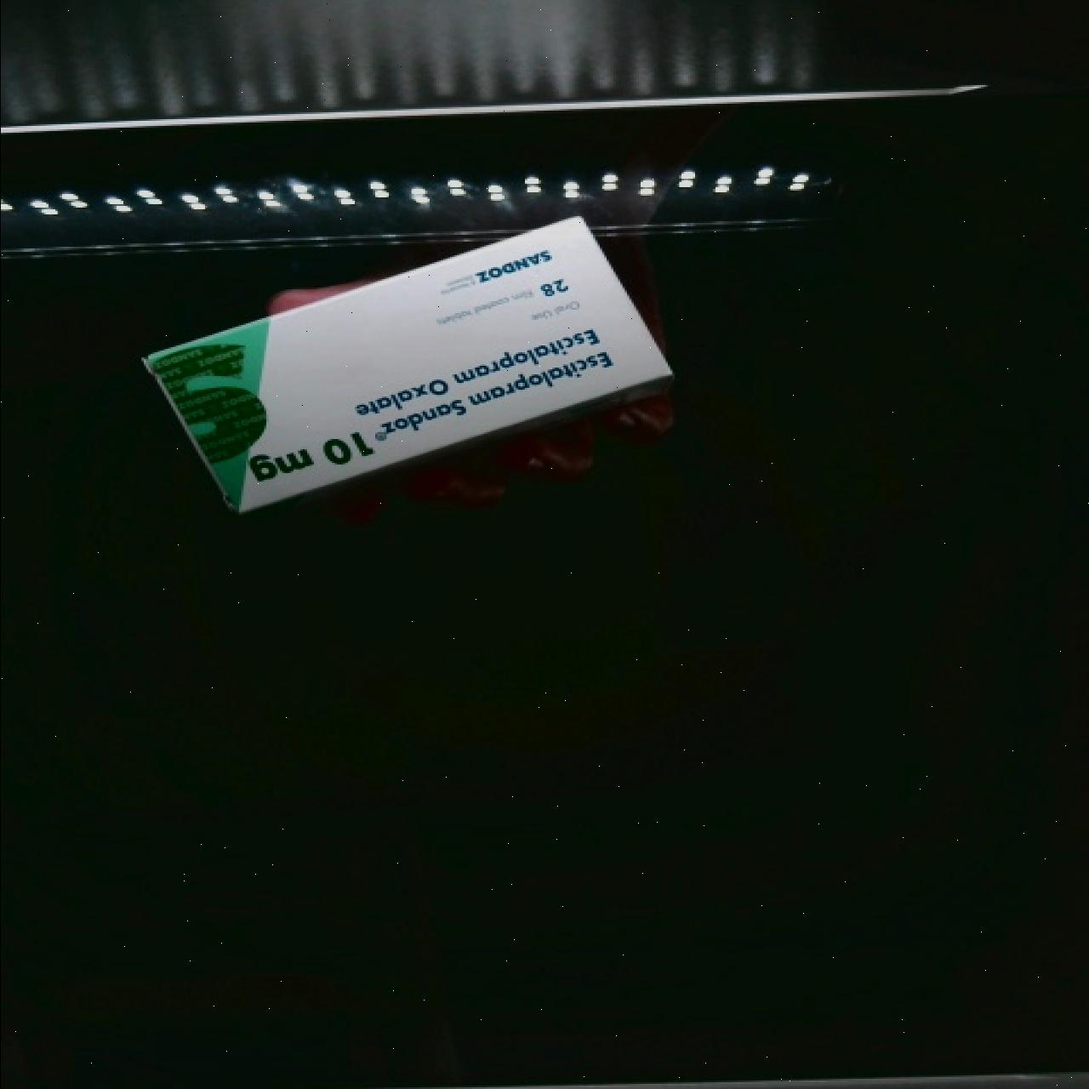medicine_label_obb: (337, 303, 650, 471)
